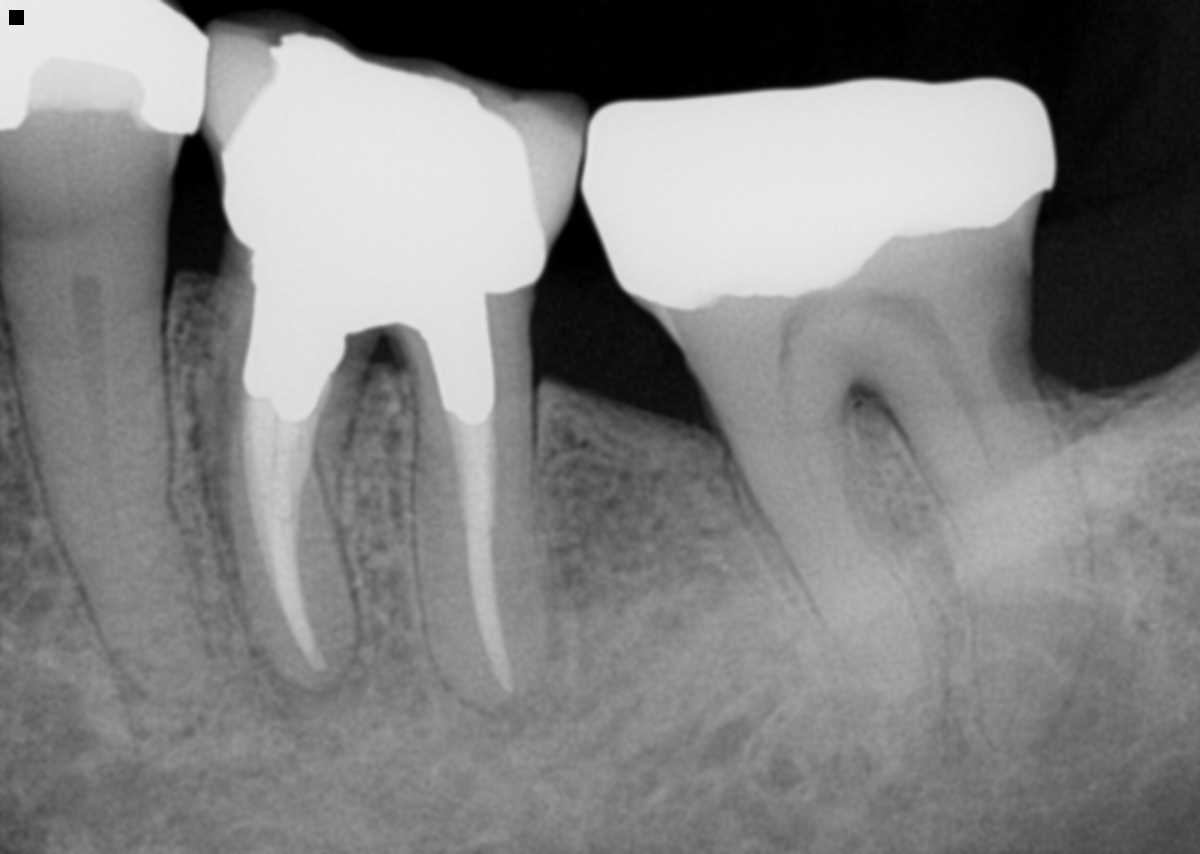Apical Lesion: (466, 626, 571, 736), (267, 653, 377, 746)
Distal Canal: (957, 399, 1019, 567)
Distal Root: (882, 394, 1084, 760), (398, 351, 541, 706)
Main Canal: (71, 277, 164, 648)
Main Root: (4, 266, 212, 708)
Mesial Root: (730, 400, 928, 718), (203, 292, 360, 684)
Root Canal Filling: (244, 389, 327, 672), (444, 409, 516, 689)
